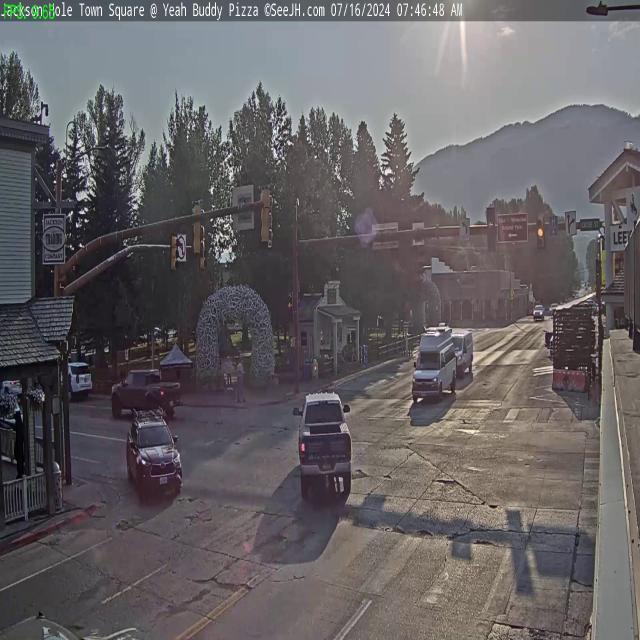pickup: (293, 386, 355, 500), (111, 364, 182, 421)
suv: (125, 409, 185, 498), (59, 358, 92, 402), (532, 303, 545, 320)
traffic light: (260, 183, 272, 244), (191, 198, 203, 255), (486, 206, 497, 253), (170, 235, 180, 272), (536, 214, 544, 248)
van: (410, 326, 457, 404), (449, 326, 476, 373)
